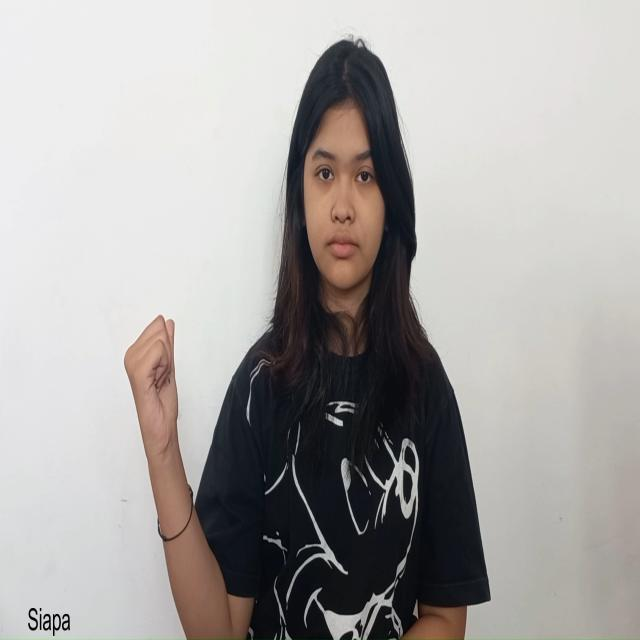Siapa -BISINDO-: (122, 310, 185, 480)
